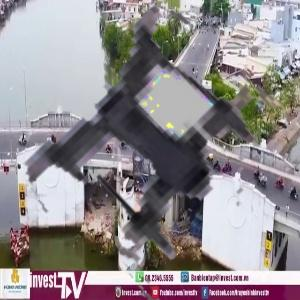drone: (7, 1, 297, 291)
